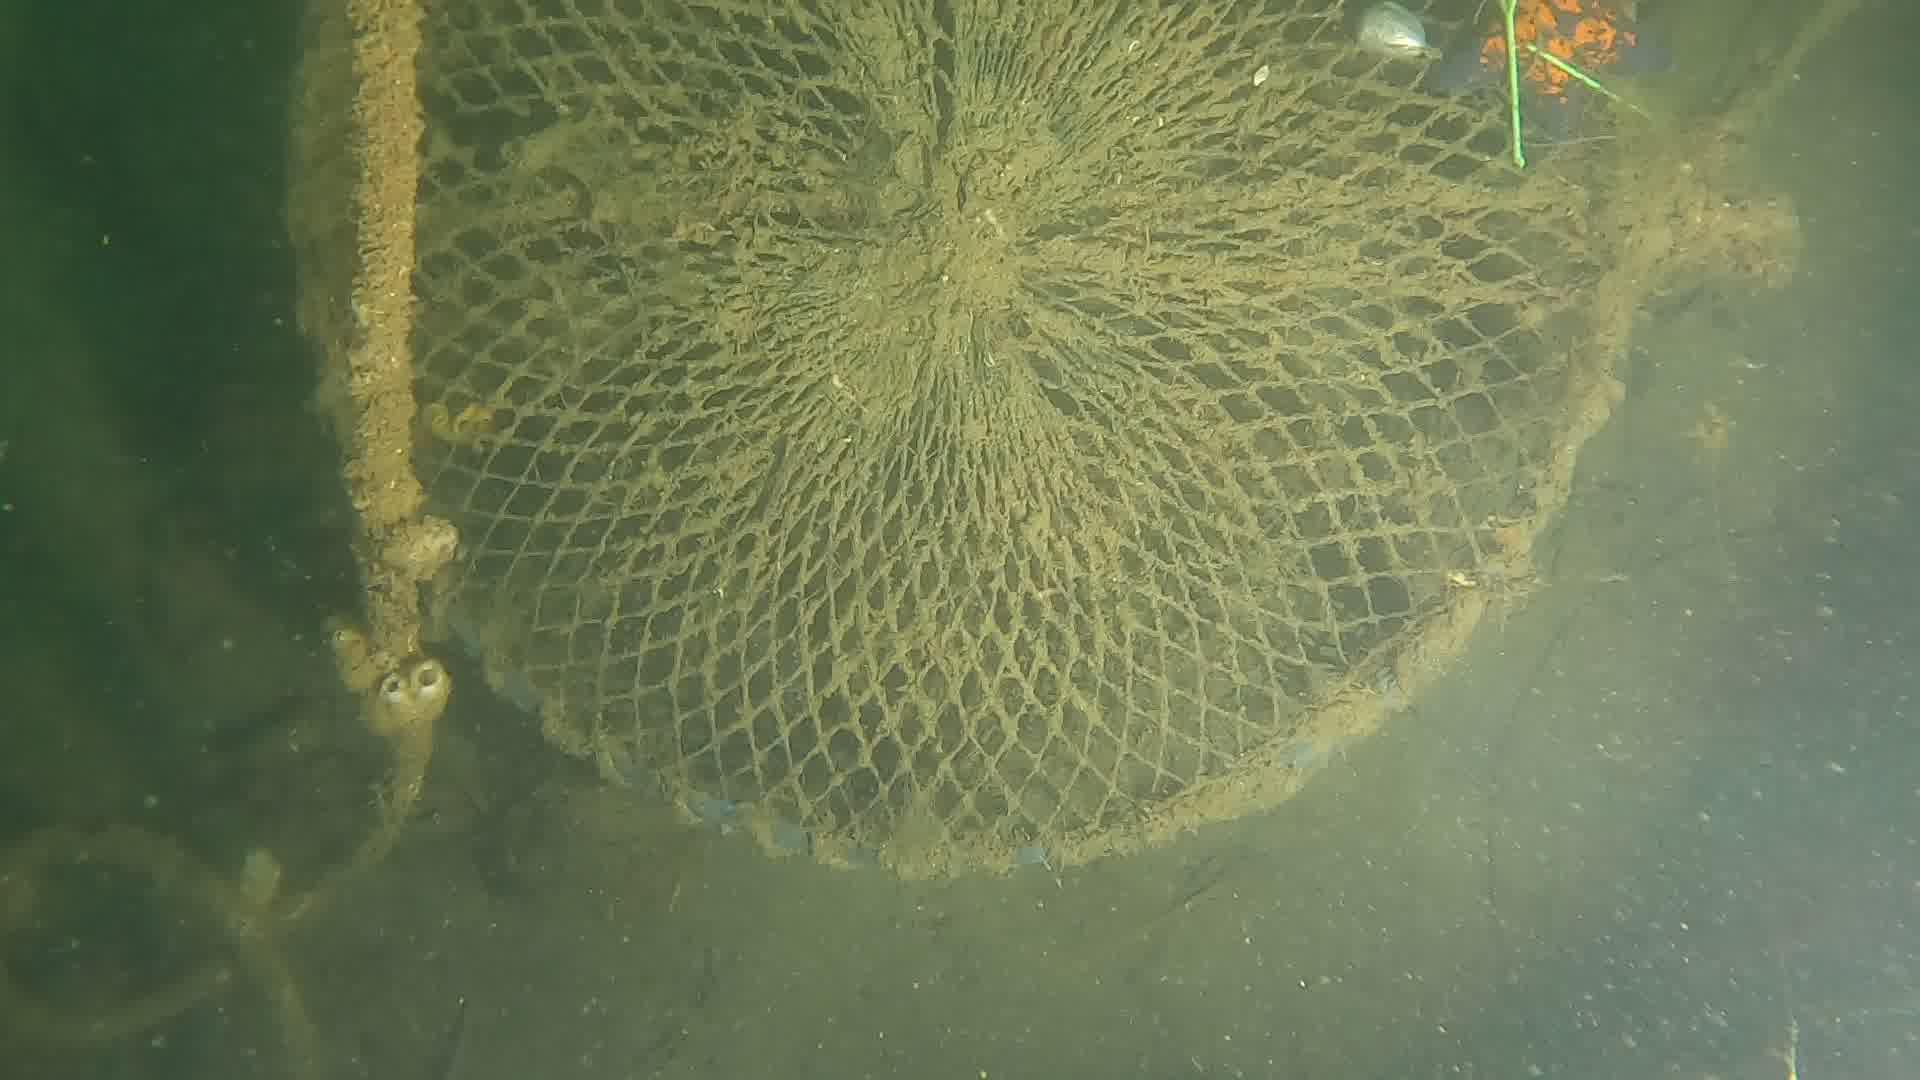rope: (4, 0, 430, 1069)
